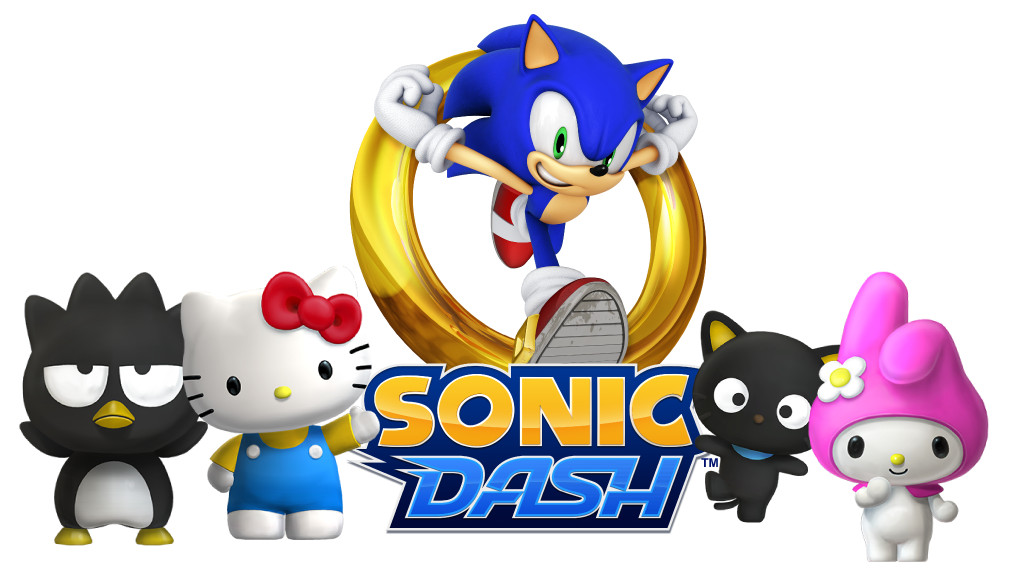batsumaru: (19, 266, 181, 546)
